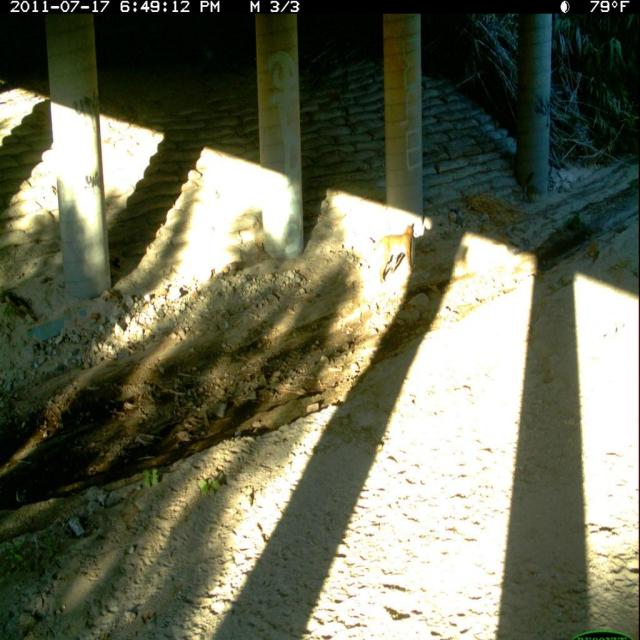bobcat: (373, 218, 421, 288)
rabbit: (410, 231, 419, 271)
